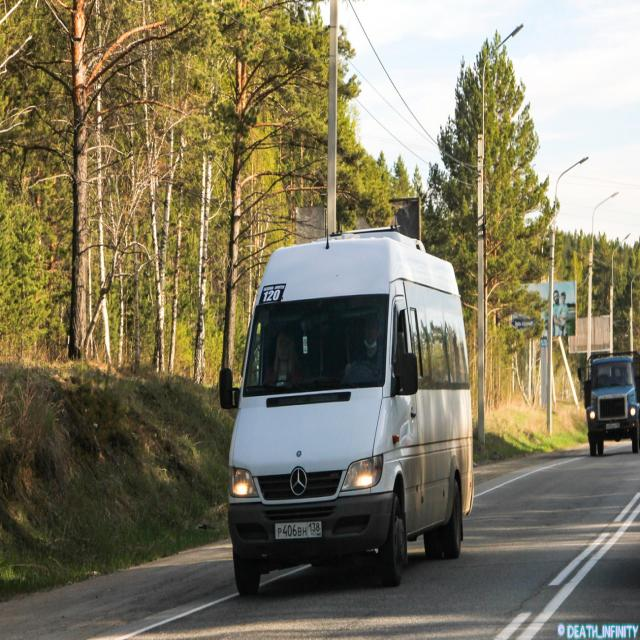number-of-bus: (263, 291, 282, 304)
